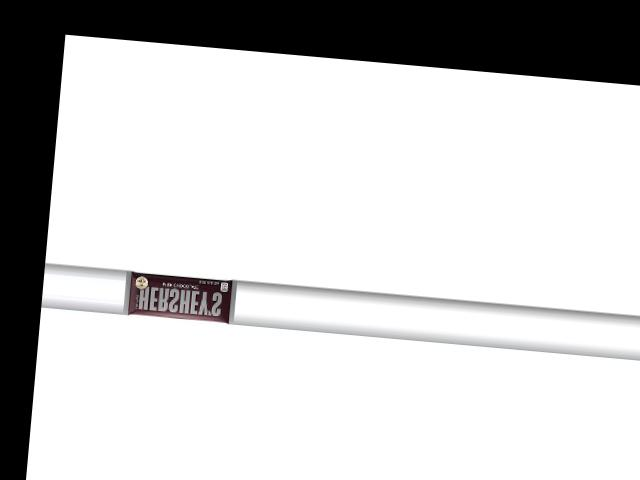chocolate: (125, 265, 237, 322)
